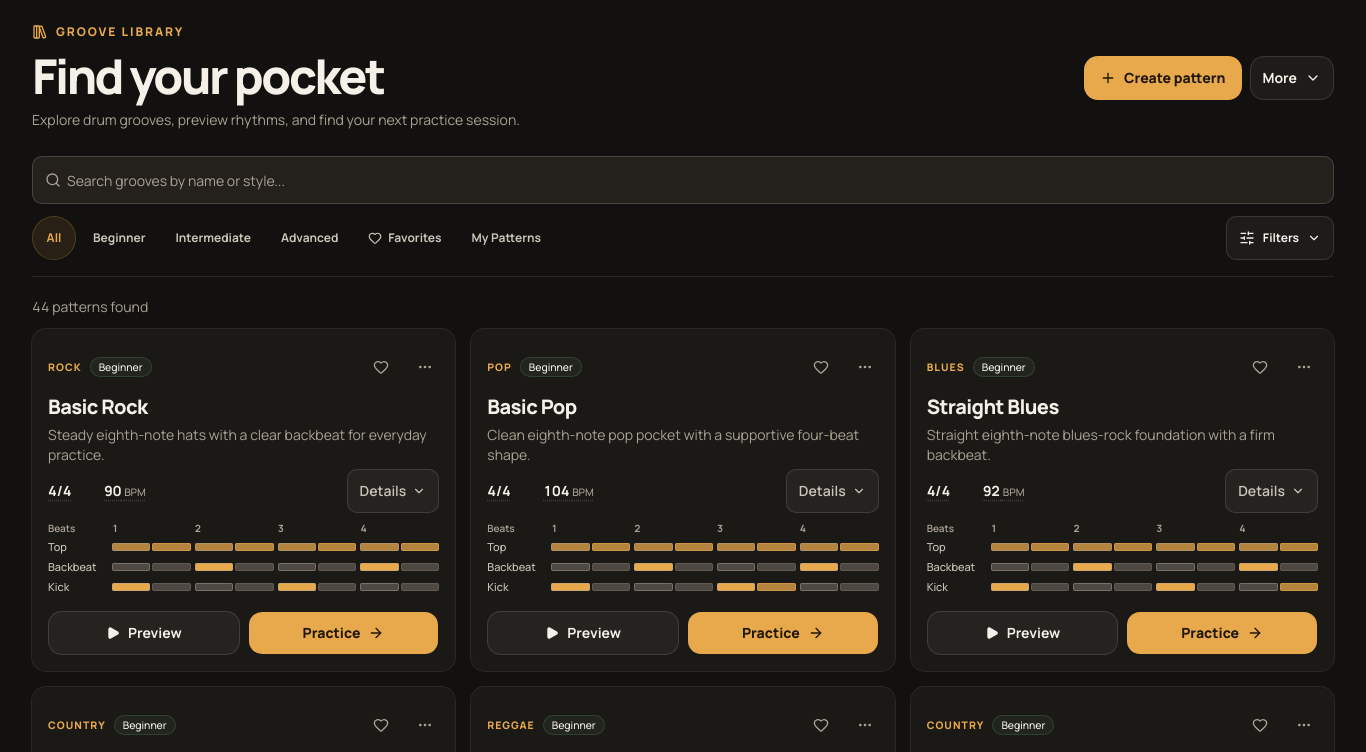
Test: pattern browser › searches and filters the pattern library
Type "shuffle blues" into the search field at (697, 180), box [61, 156, 1333, 204]
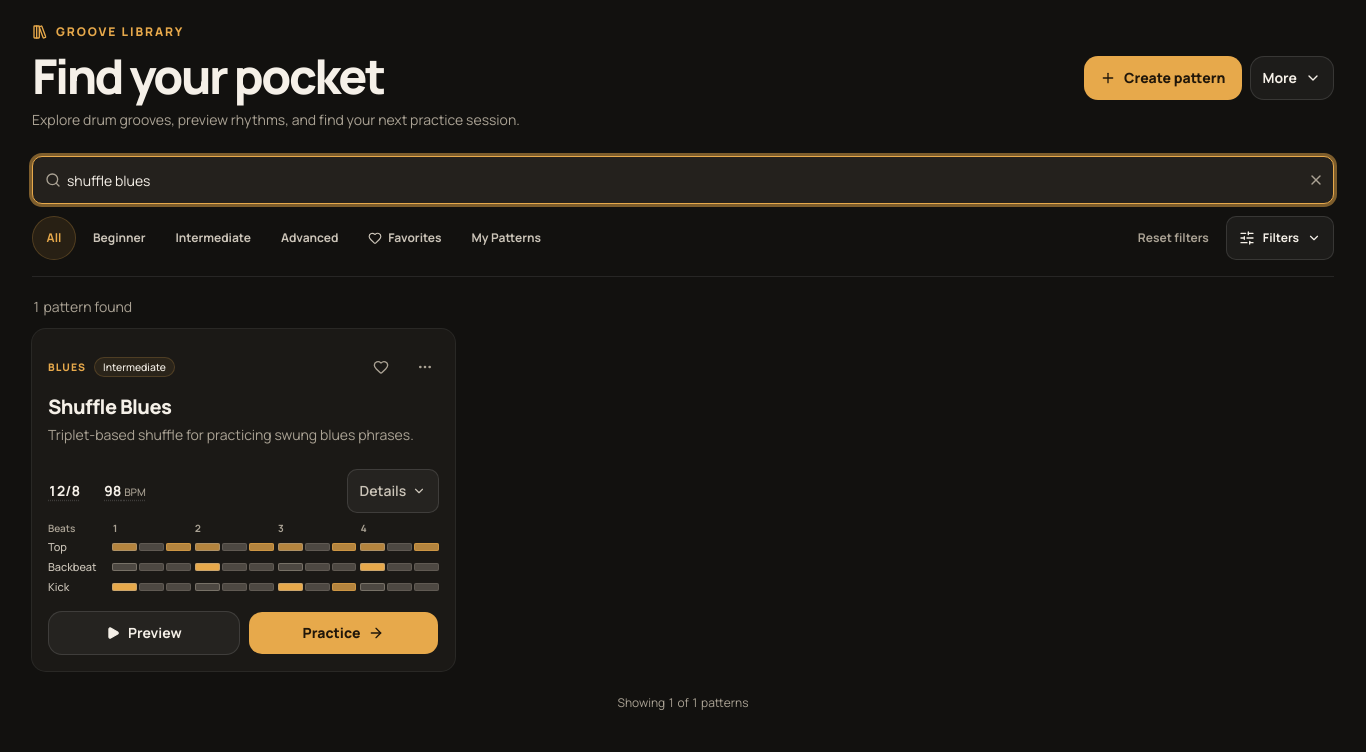
Result: the heading "Shuffle Blues" is shown at [48, 393, 171, 420]
Result: the heading "Basic Rock" is gone
